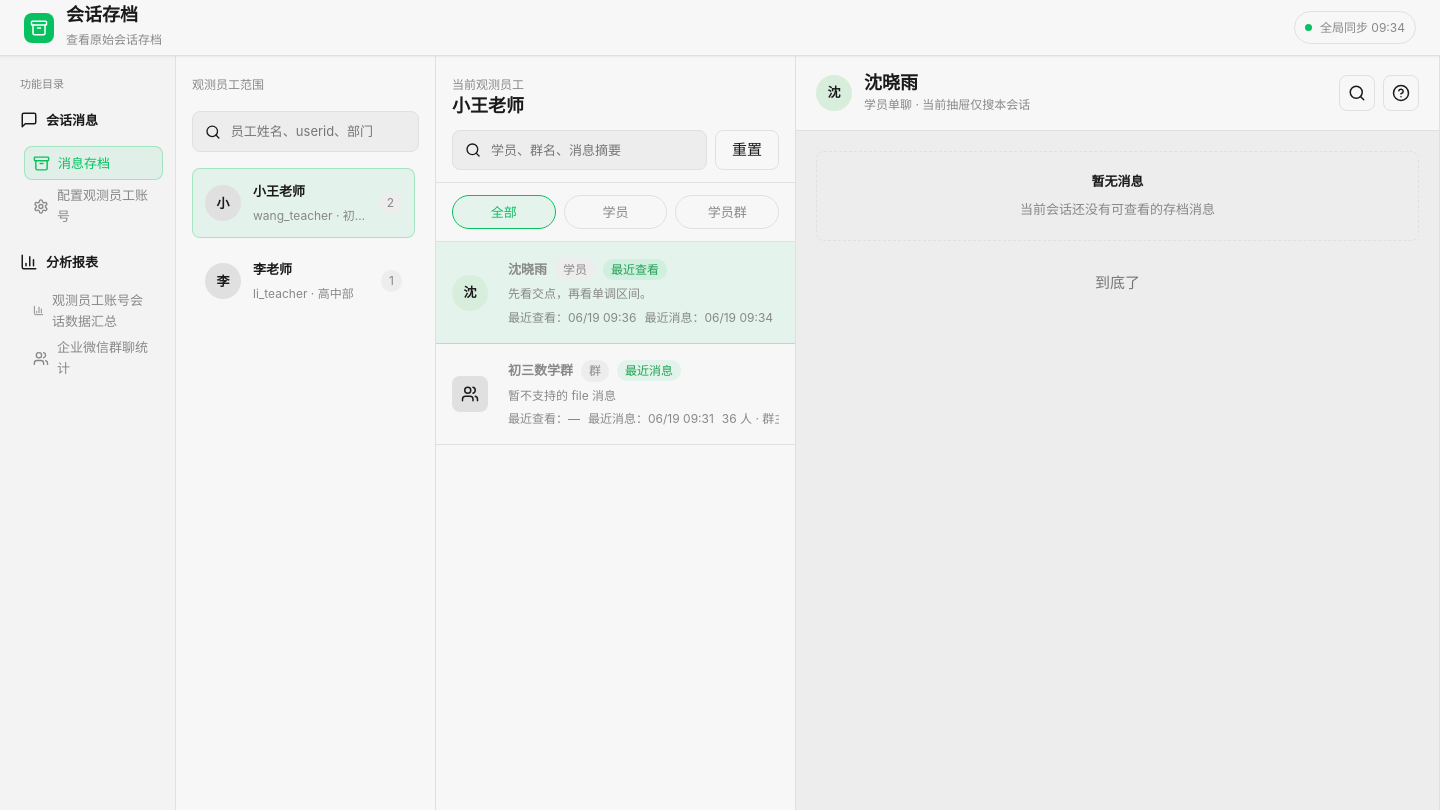
App › does not let a stale employee message response replace the current employee messages
Step 1. Click the button "李 李老师 li_teacher · 高中部 1" → (304, 281), box [192,246,415,316]
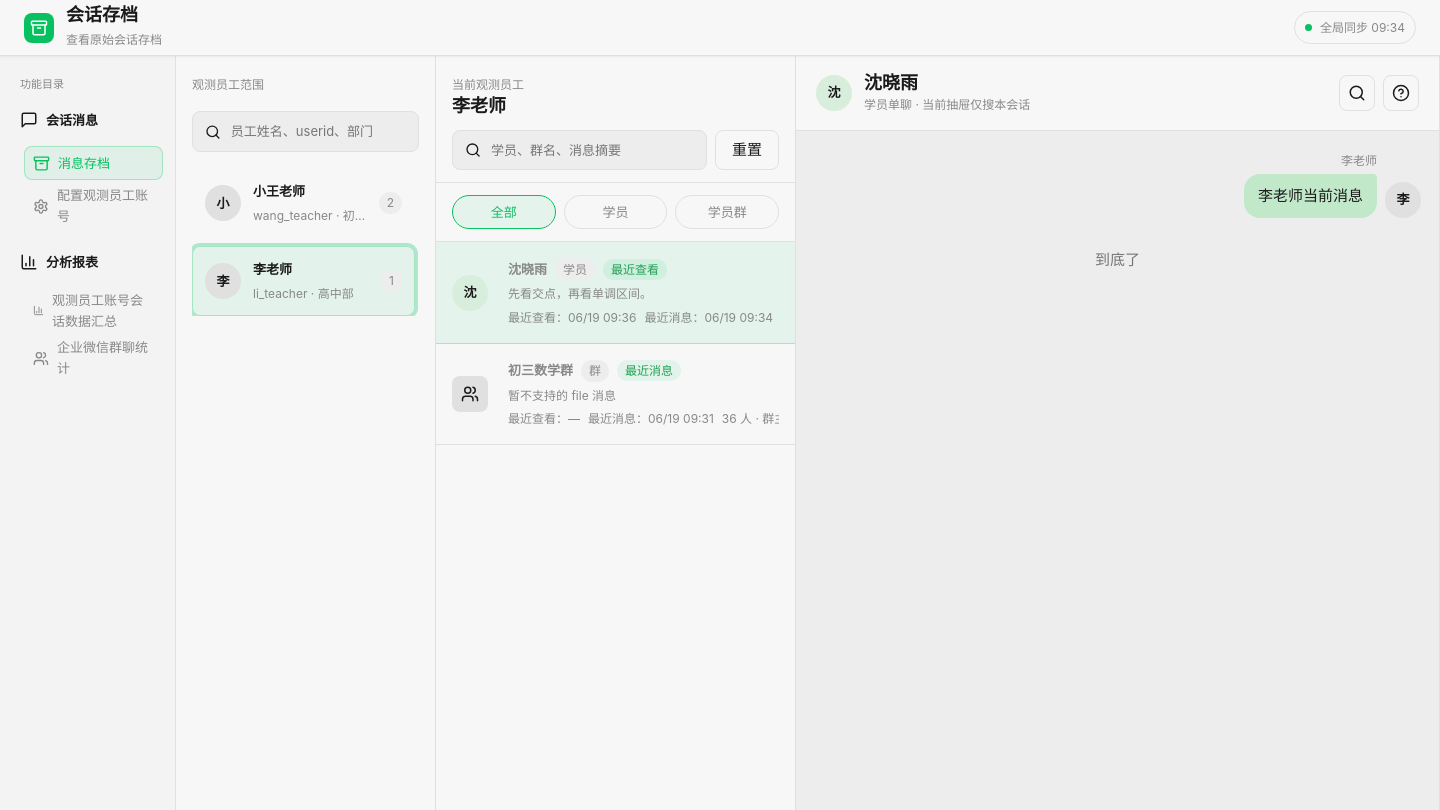
Result: the element showing "李 李老师 李老师当前消息" is shown at [1244,153,1421,218]
Result: the text "李老师当前消息" is shown at [1244,174,1377,218]
